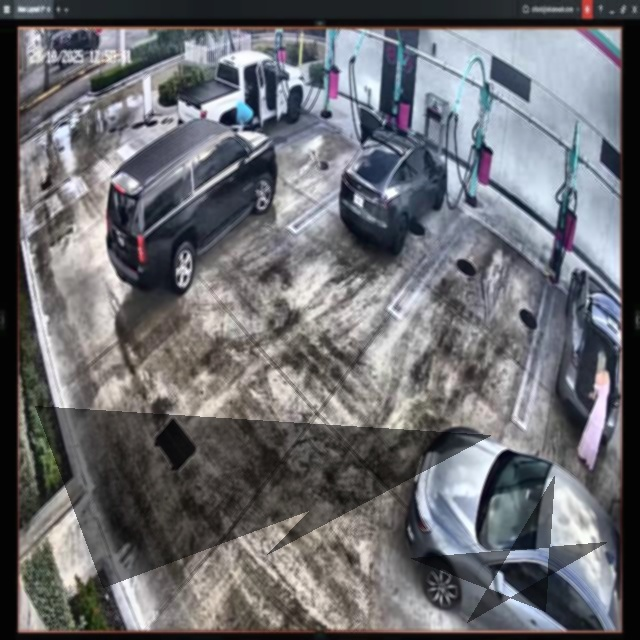Car: (405, 425, 620, 632), (108, 118, 277, 293), (339, 127, 447, 254)
